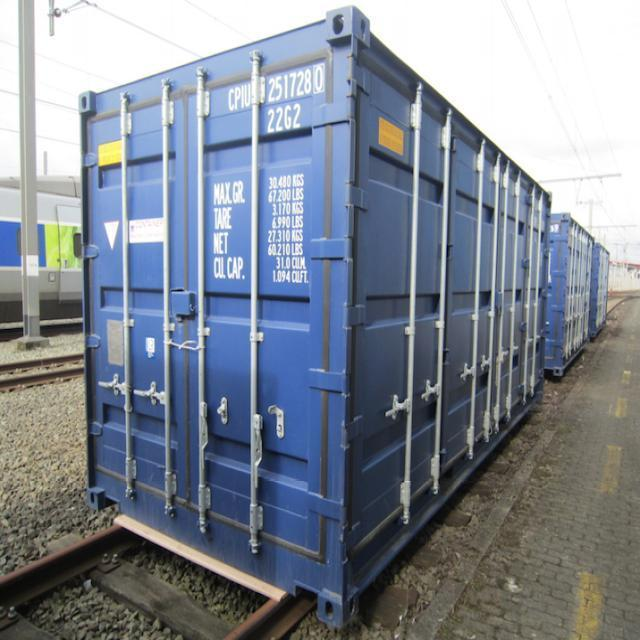container_number_h: (225, 61, 328, 138)
